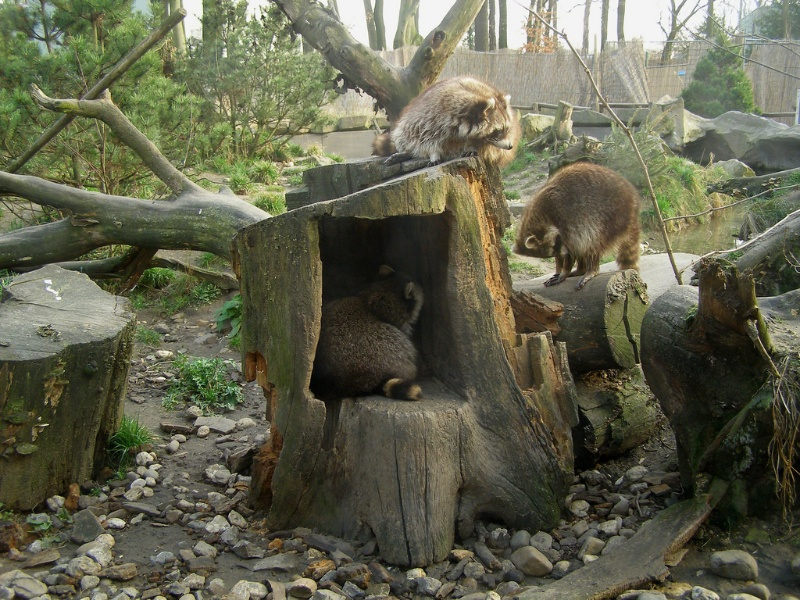raccoon: (510, 159, 652, 299), (308, 260, 437, 399), (383, 73, 519, 167)
